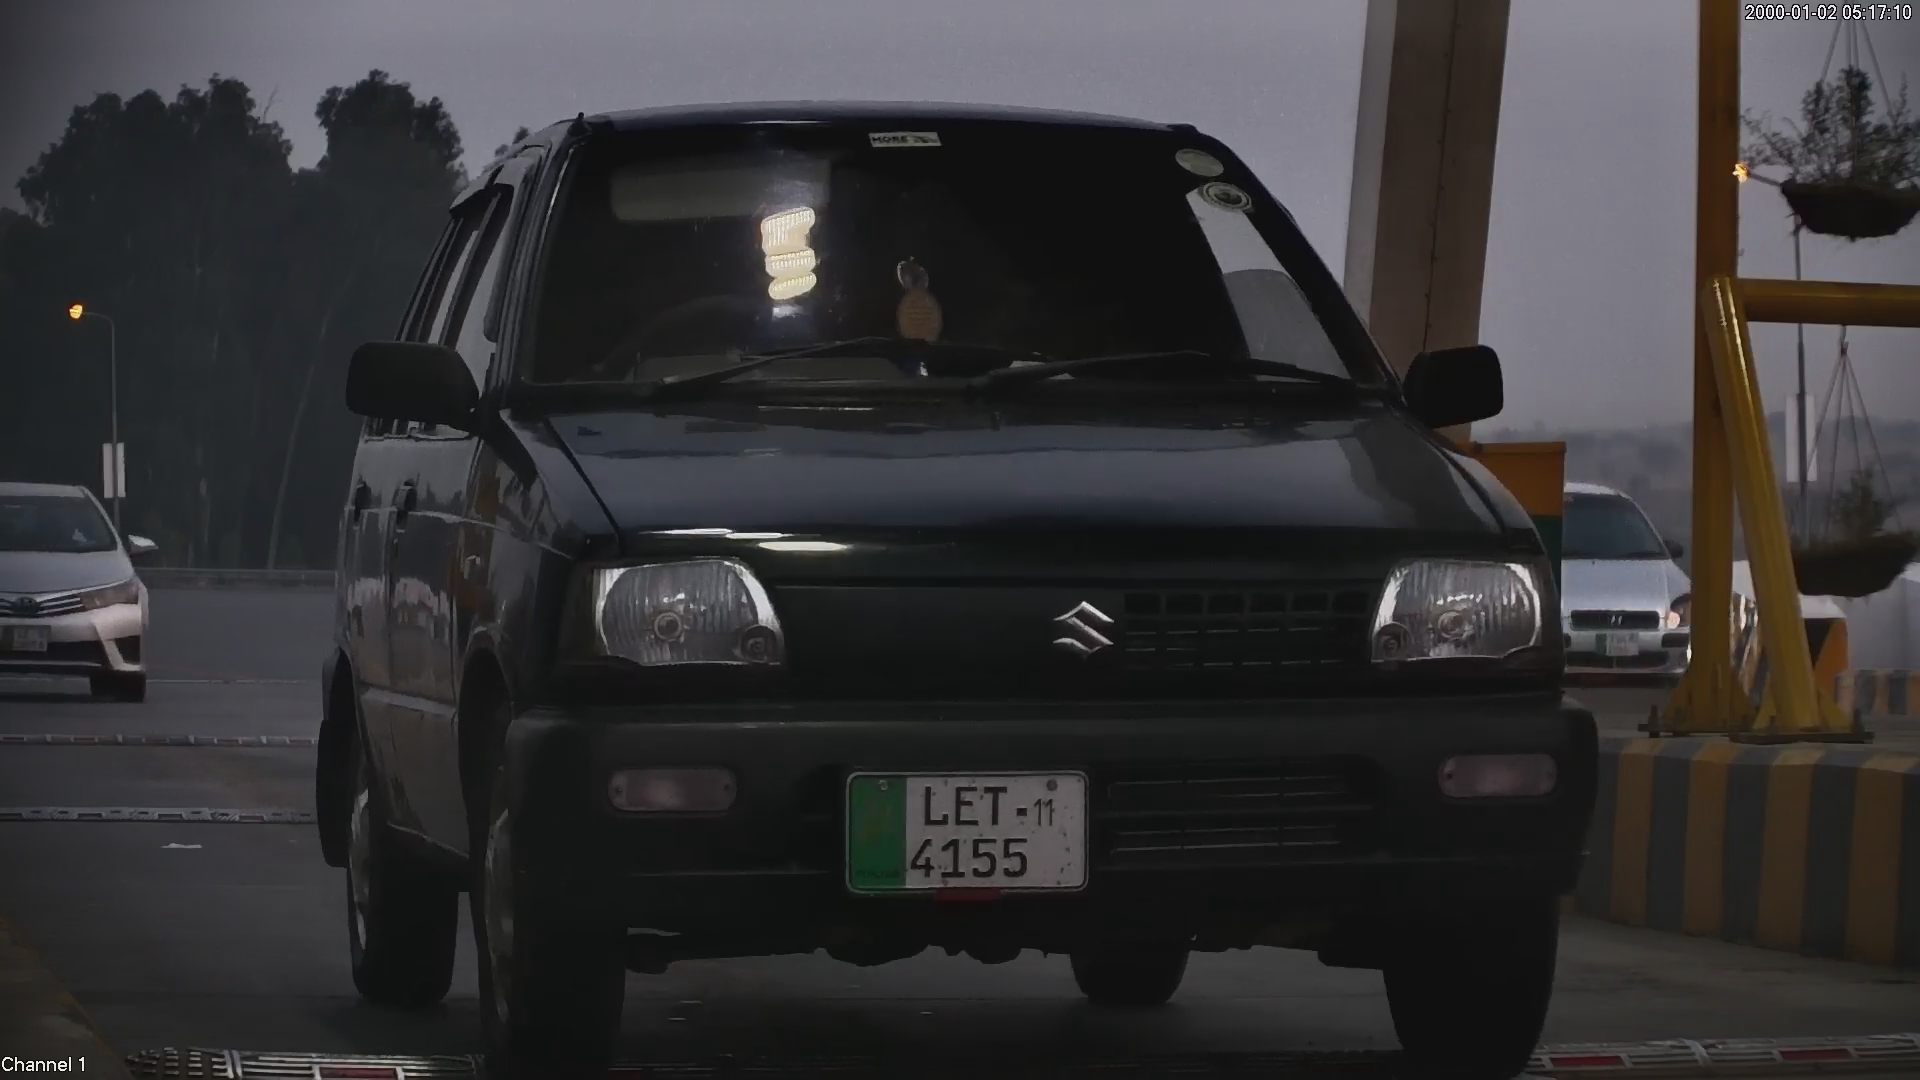Number_Plate: (831, 758, 1101, 909)
